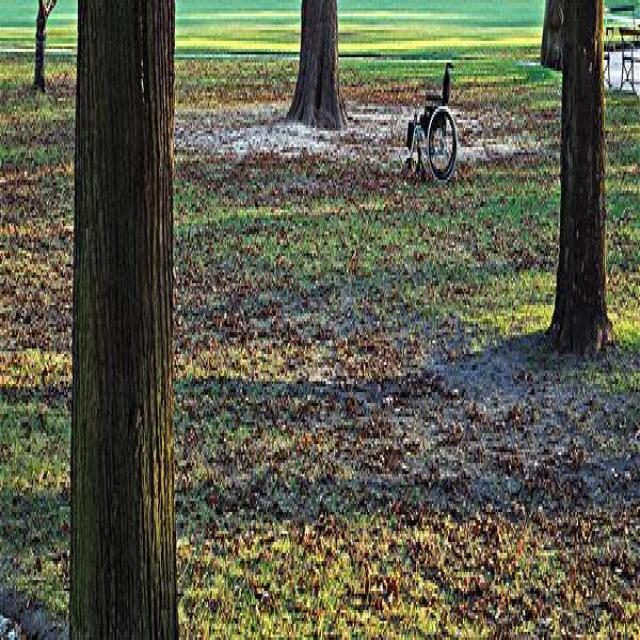wheelchairs: (398, 49, 464, 202)
